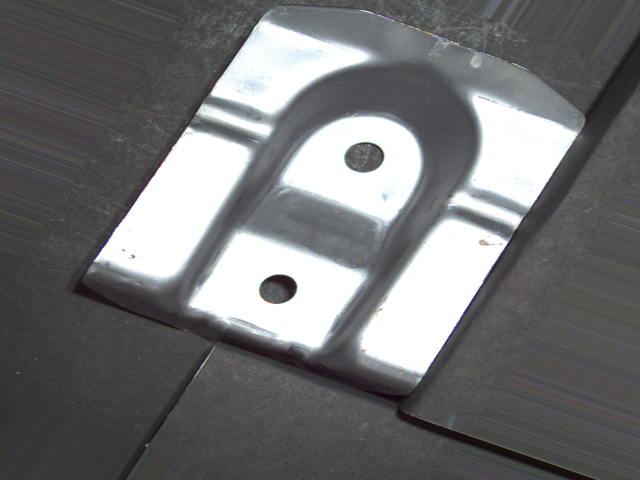defect: (339, 138, 388, 176)
